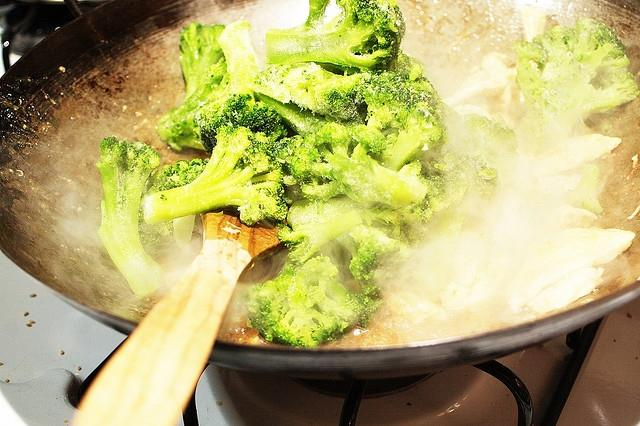broccoli: (514, 19, 638, 148), (359, 146, 502, 250), (143, 126, 288, 227), (288, 122, 427, 205), (97, 136, 166, 298), (266, 0, 406, 76), (251, 62, 372, 118), (258, 270, 342, 348), (334, 224, 411, 300), (303, 254, 380, 330), (194, 94, 288, 156), (360, 70, 443, 134), (277, 210, 363, 264), (178, 22, 229, 102), (462, 114, 520, 154), (387, 49, 412, 74)
